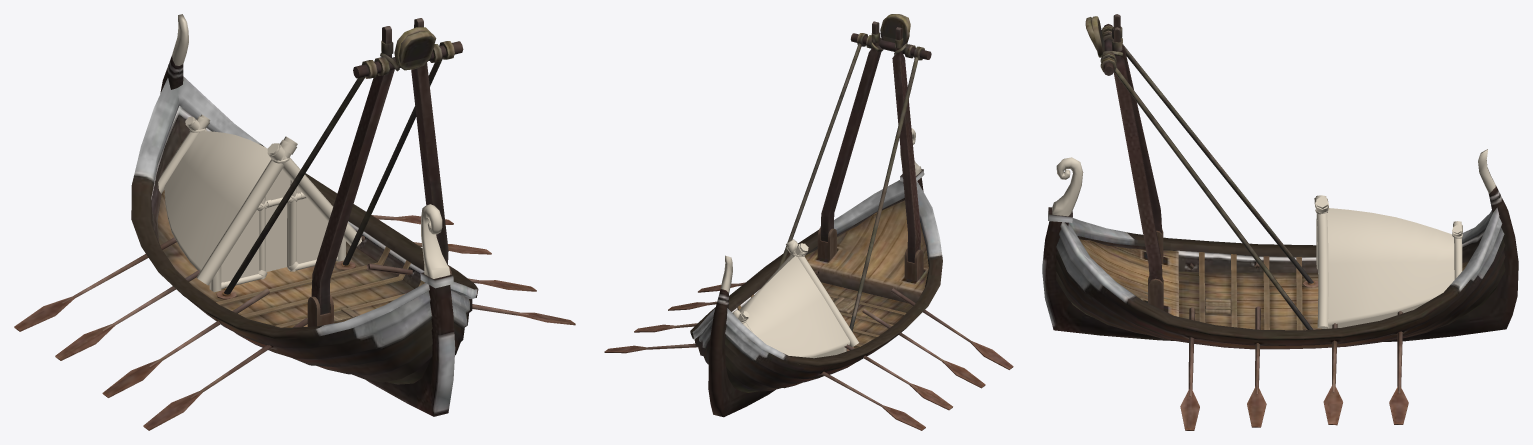
The model's file is 257-dreki.glb.
3 renders of one model, left to right at view 1: azimuth 30°, elevation 25°; view 2: azimuth 150°, elevation 25°; view 3: azimuth 270°, elevation 25°, orthographic. The views are drawn at different scales.
Size of the model in its own units: 3.81 by 3.27 by 4.32.
Materials: 4 (1 with a texture image).
